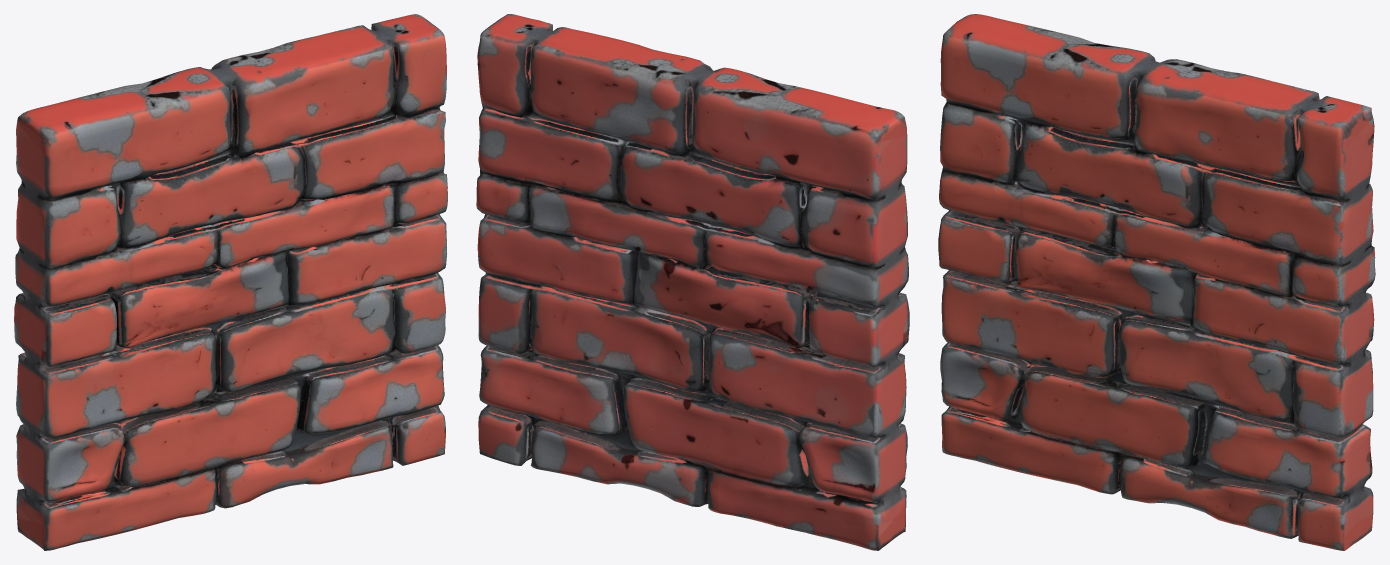
The model's file is colorful-brick-wall.normalized.glb.
3 renders of one model, left to right at view 1: azimuth 30°, elevation 25°; view 2: azimuth 150°, elevation 25°; view 3: azimuth 330°, elevation 25°, orthographic.
Parts seen in each view (by area): view 1: meshy_cc0_colorful_brick_wall_mesh_00; view 2: meshy_cc0_colorful_brick_wall_mesh_00; view 3: meshy_cc0_colorful_brick_wall_mesh_00.
Boxes of the visible parts, x1,y1,x2,y2 form: meshy_cc0_colorful_brick_wall_mesh_00: (14, 14, 447, 550); meshy_cc0_colorful_brick_wall_mesh_00: (476, 14, 909, 550); meshy_cc0_colorful_brick_wall_mesh_00: (938, 14, 1375, 550).
Size of the model in its own units: 1.89 by 1.91 by 0.3075.
1 material, 1 textured.
